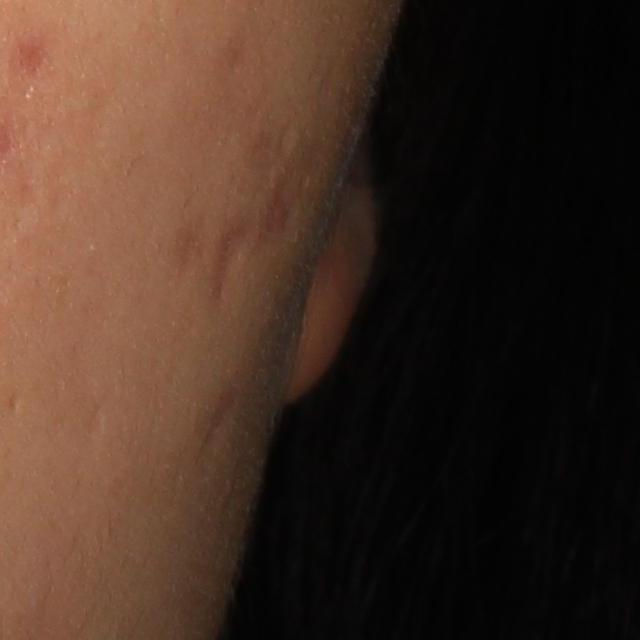atrophic_scar: (211, 211, 255, 308), (195, 382, 243, 458), (261, 148, 296, 238), (7, 391, 22, 412)
